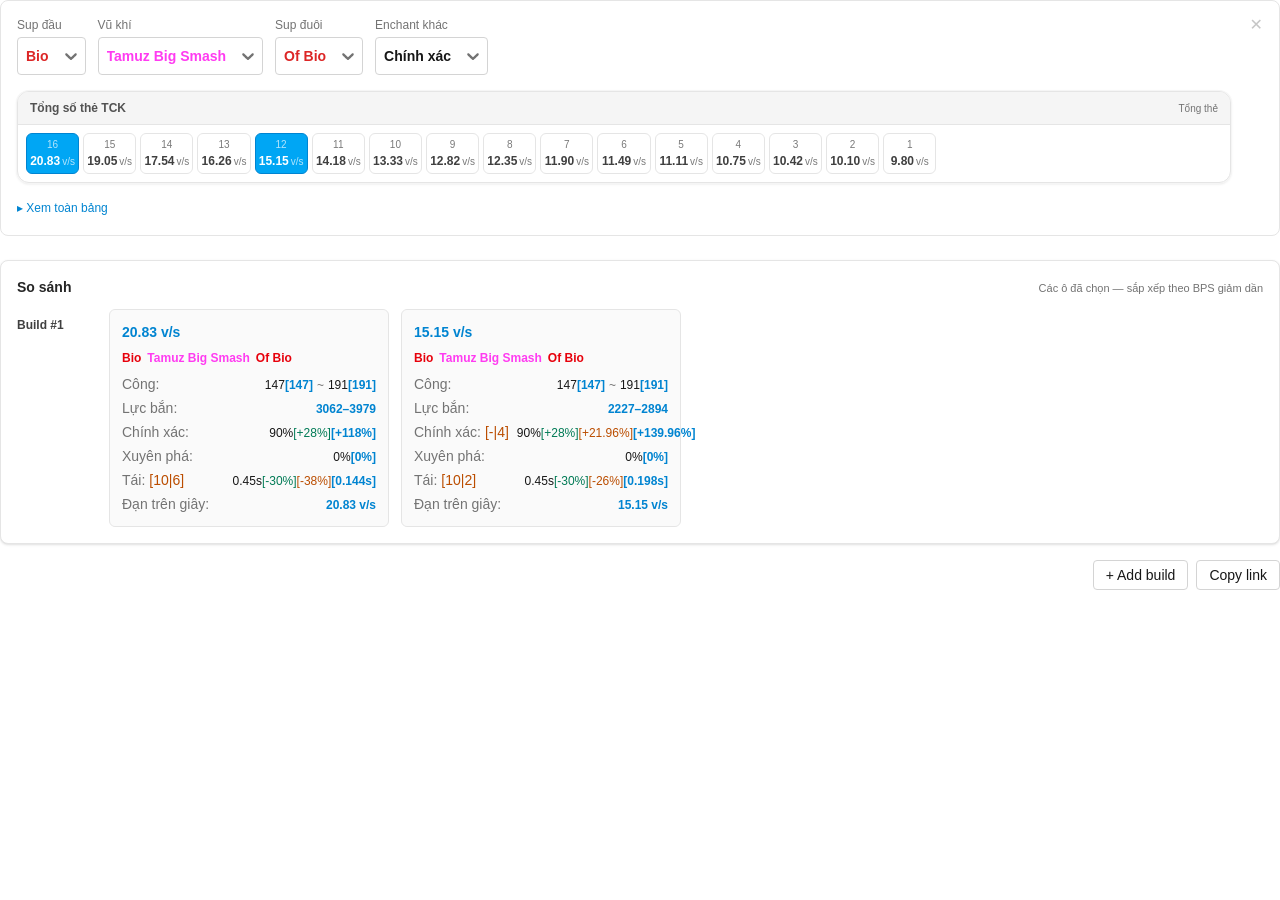
Test case: BuildList › appends a new build row when Add build is clicked
Click the button "+ Add build".
click(1141, 575)  # box [1093,560,1188,590]
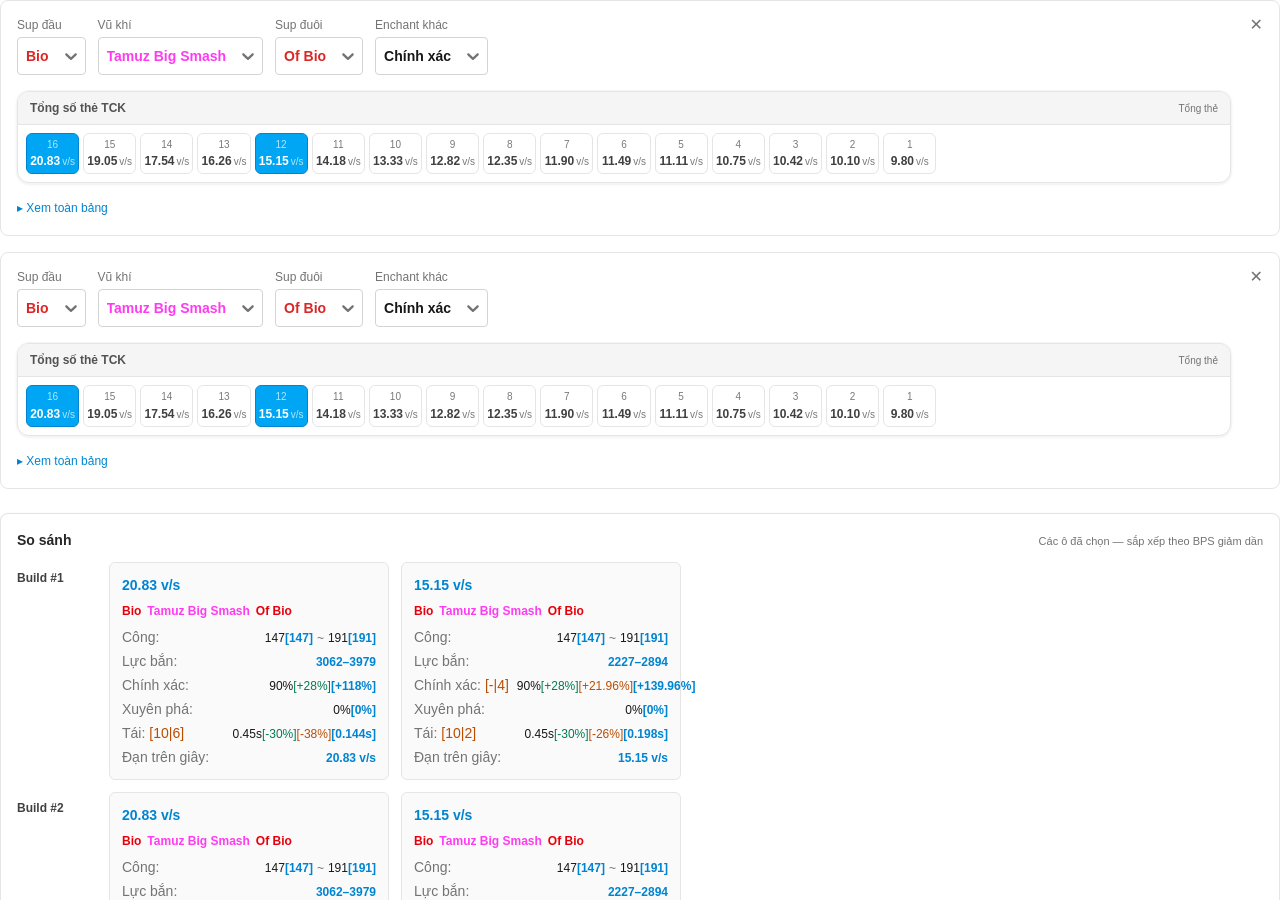
Result: the number of elements with test id "build-row" is 2 at [0,0,1279,236]; [0,252,1279,489]
